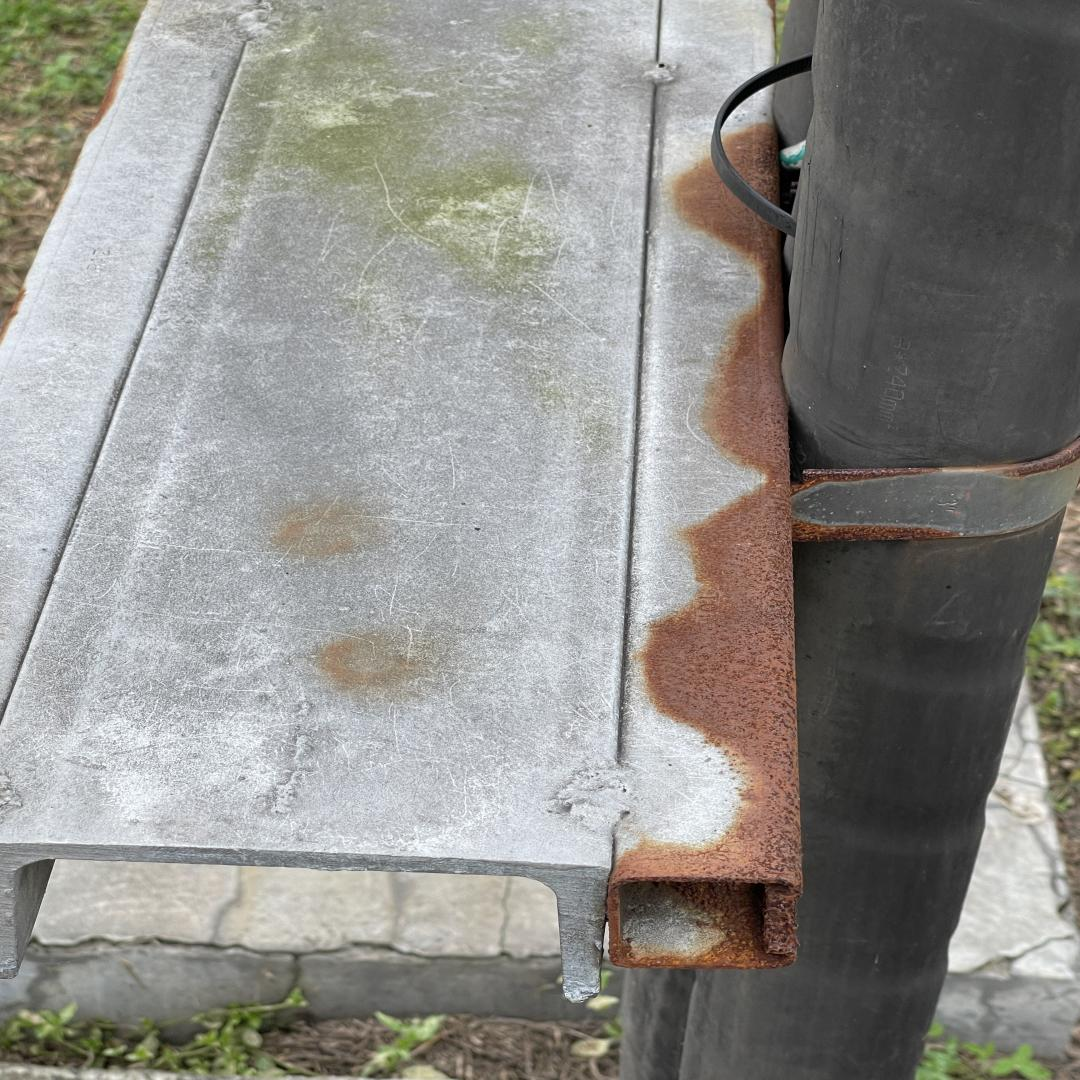Metal: (0, 0, 1080, 1080)
Metal corroido: (608, 162, 802, 974), (793, 436, 1080, 493), (721, 123, 800, 214), (791, 505, 964, 543)
